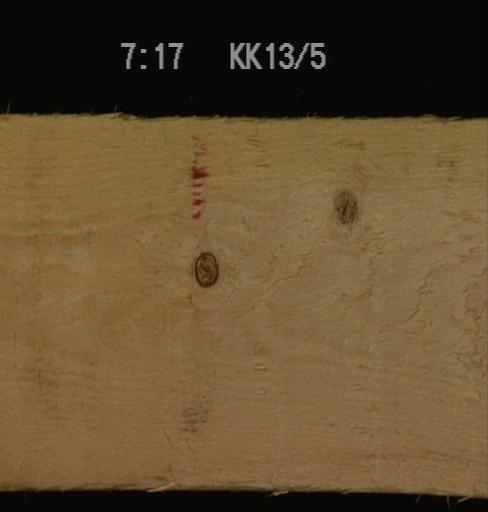dry_knot: (328, 186, 361, 224), (190, 250, 220, 288)
wave: (60, 464, 175, 494)
